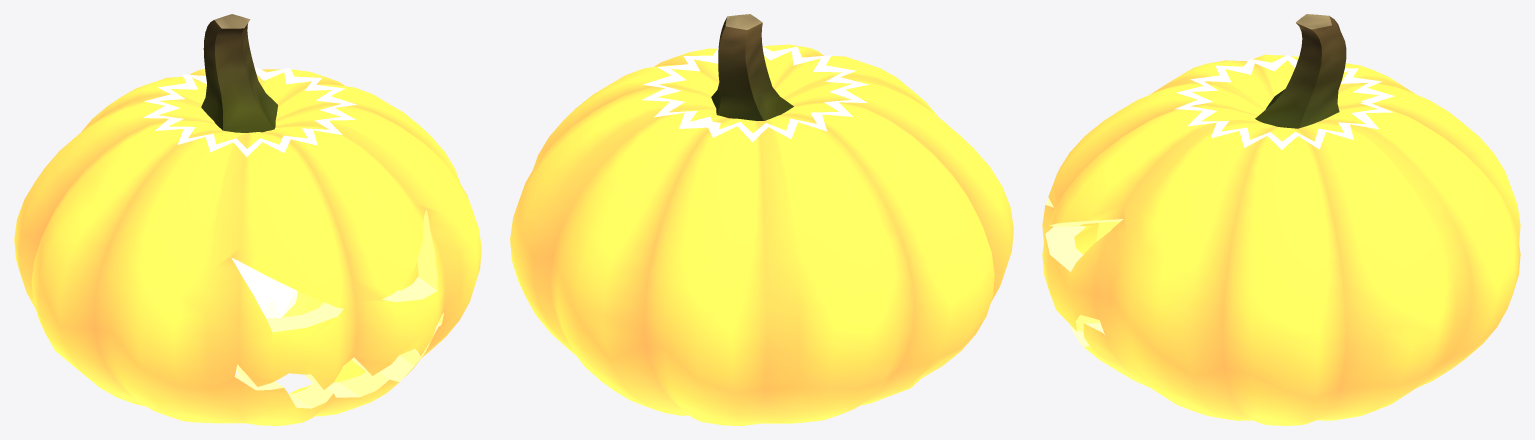
The model's file is gourdlight_pumpkin_head.glb.
3 renders of one model, left to right at view 1: azimuth 30°, elevation 25°; view 2: azimuth 150°, elevation 25°; view 3: azimuth 270°, elevation 25°, orthographic. The views are drawn at different scales.
Visible parts, largest first — view 1: pumpkin_head; view 2: pumpkin_head; view 3: pumpkin_head.
Boxes of the visible parts, x1,y1,x2,y2 form: pumpkin_head: [14, 14, 481, 425]; pumpkin_head: [510, 14, 1013, 425]; pumpkin_head: [1042, 14, 1520, 425].
Bounding box in the file's own units: 0.6411 × 0.5236 × 0.6285.
